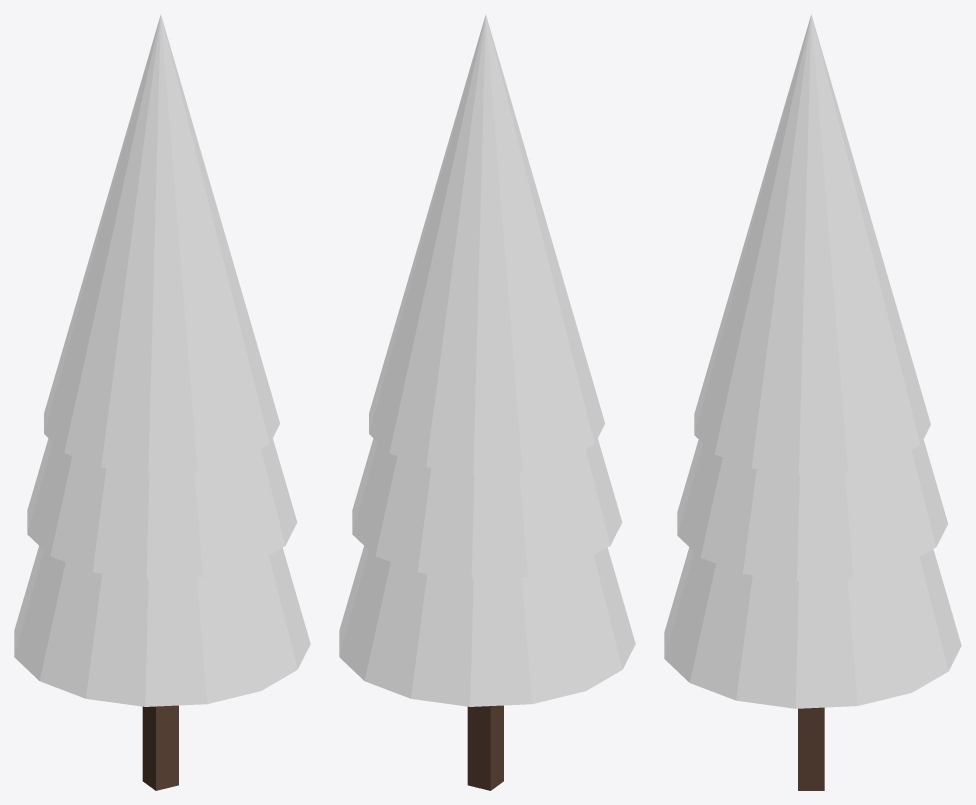
Rendered from arbol de la barranca.glb.
3 renders of one model, left to right at view 1: azimuth 30°, elevation 25°; view 2: azimuth 150°, elevation 25°; view 3: azimuth 270°, elevation 25°, orthographic.
Parts seen in each view (by area): view 1: Cube.005; view 2: Cube.005; view 3: Cube.005.
Part boxes in pixels (left/top/right/bottom): Cube.005: left=14, top=14, right=310, bottom=790; Cube.005: left=339, top=14, right=635, bottom=790; Cube.005: left=664, top=14, right=961, bottom=790.
Size of the model in its own units: 1.27 by 3.61 by 1.26.
